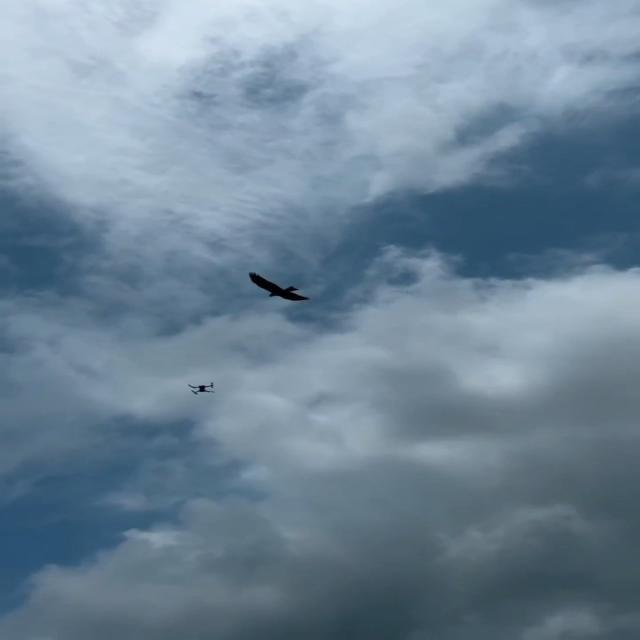bird: (247, 271, 309, 301)
drone: (187, 382, 214, 394)
